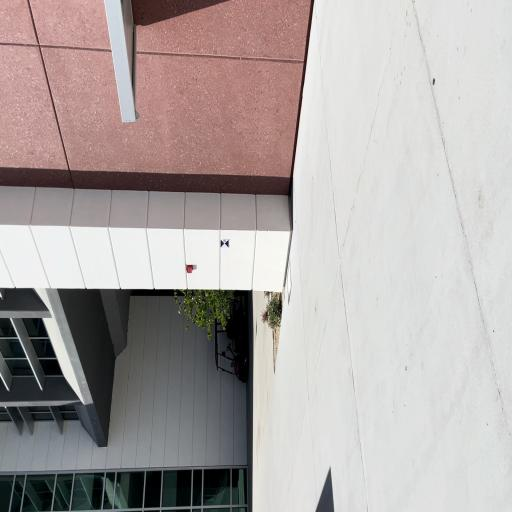target9: (220, 239, 230, 248)
